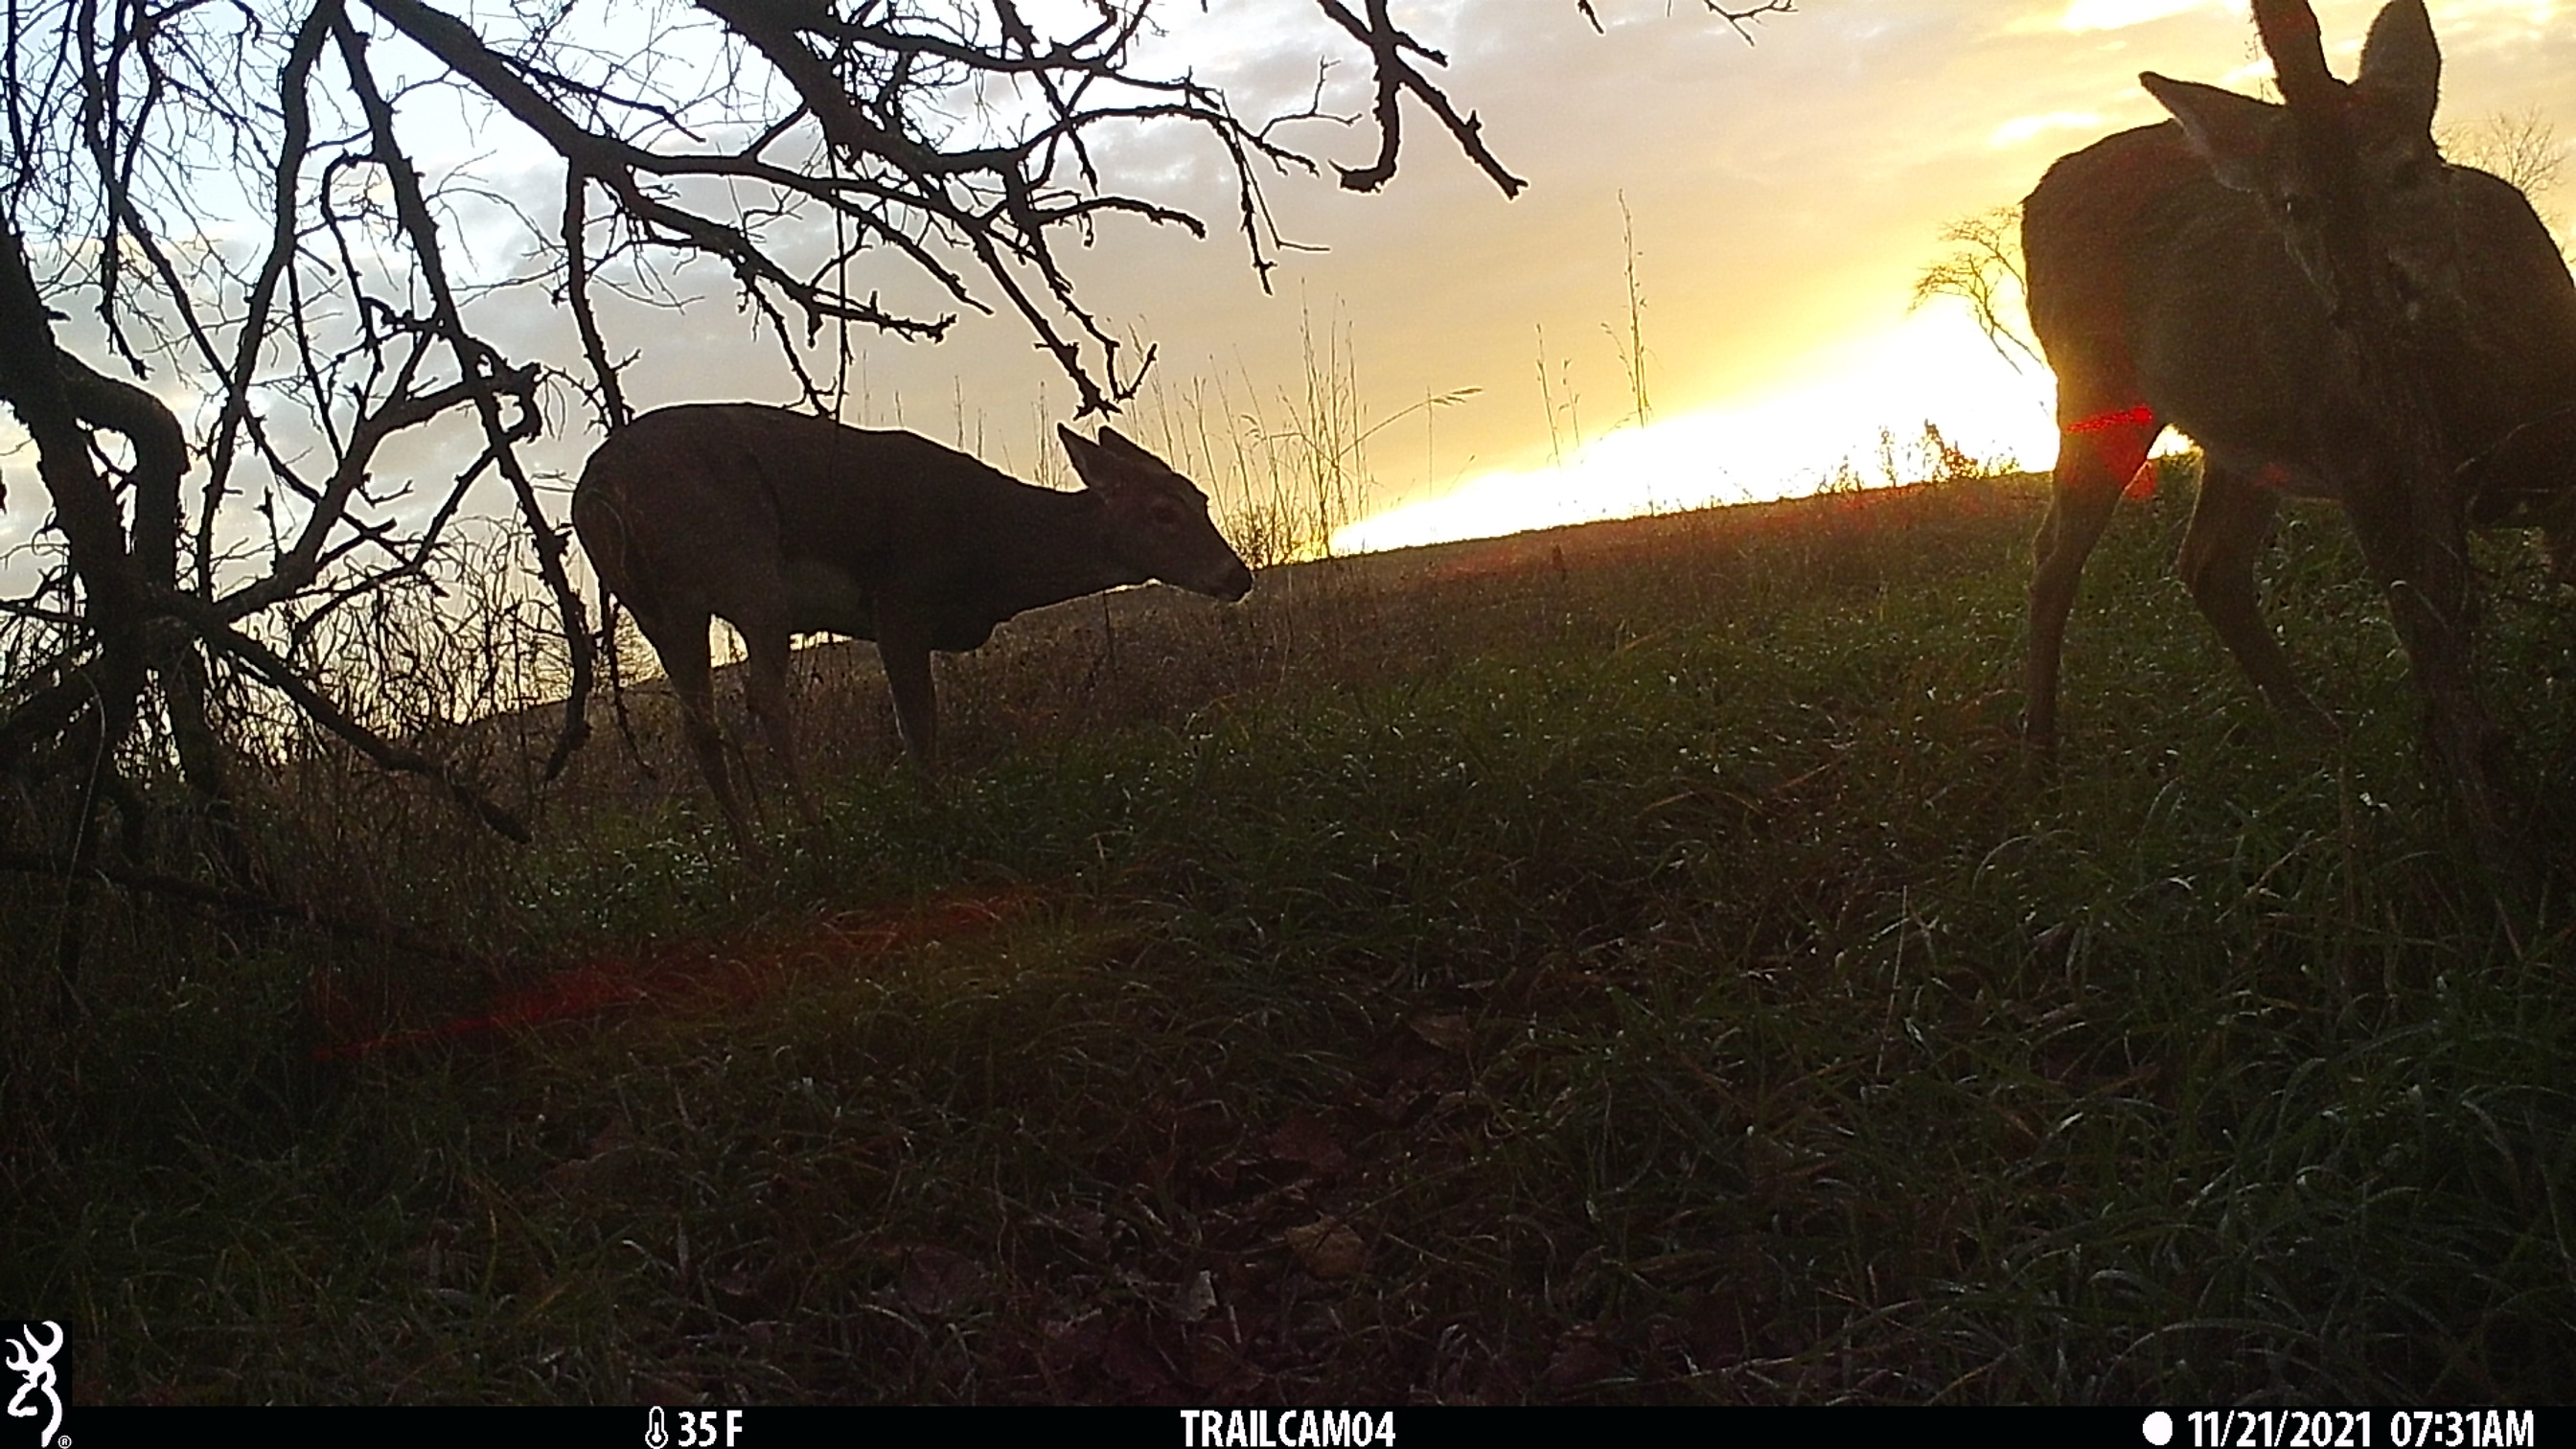DeerDoe: (2015, 2, 2576, 780), (570, 398, 1258, 805)
